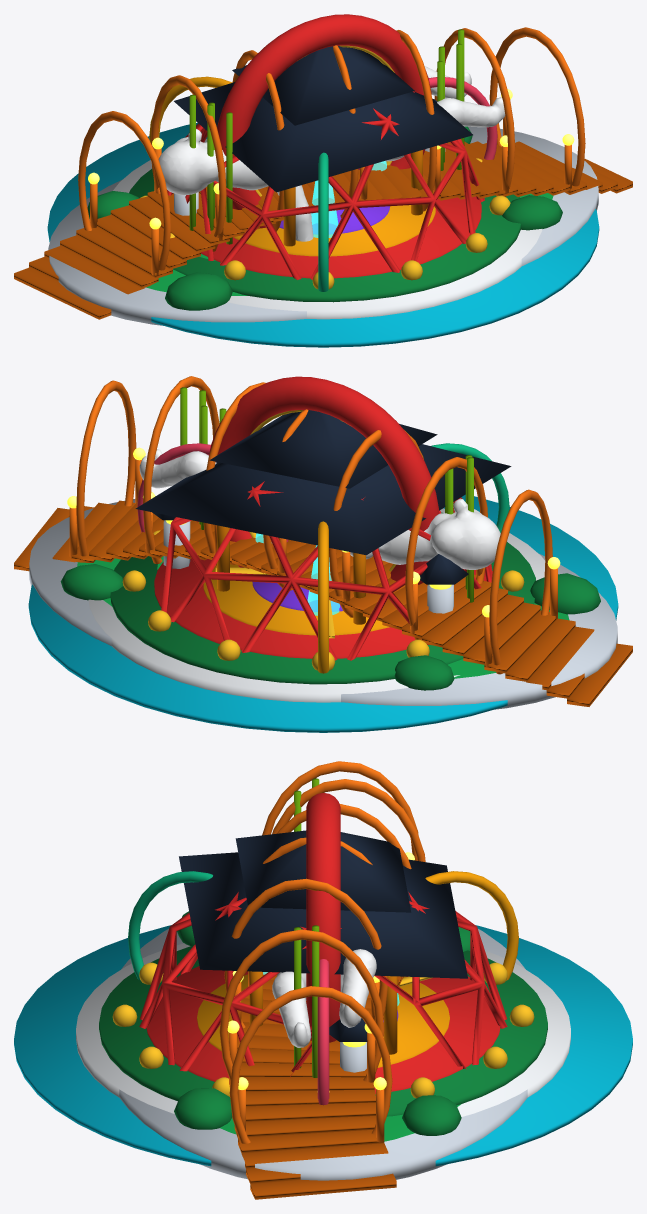
The model's file is sculptures_bridges.glb.
The picture shows the model from 3 angles, top to bottom: view 1: azimuth 30°, elevation 25°; view 2: azimuth 150°, elevation 25°; view 3: azimuth 270°, elevation 25°; orthographic projection. The views are drawn at different scales.
Parts seen in each view (by area): view 1: Cylinder.032, Cone.005, Planet_Granite_Curb, Cylinder.026, Torus.007, Icosphere.004, Cone.006, Cylinder.027, Cylinder.025, Planet_Baby_Mesh, Cylinder.028, Torus (+38 smaller); view 2: Cylinder.032, Cone.005, Planet_Granite_Curb, Cylinder.026, Torus.007, Cone.006, Icosphere.004, Cylinder.025, Cylinder.027, Planet_Baby_Mesh, Cylinder.028, Torus.006 (+38 smaller); view 3: Cylinder.032, Cone.005, Cylinder.026, Planet_Granite_Curb, Icosphere.004, Cylinder.027, Cone.006, Cylinder.025, Torus.007, Cylinder.028, Torus.006, Planet_Baby_Mesh (+26 smaller).
Boxes of the visible parts, left/top/right/bottom form: Cylinder.032: left=47, top=122, right=599, bottom=347; Cone.005: left=174, top=82, right=472, bottom=192; Planet_Granite_Curb: left=48, top=126, right=598, bottom=325; Cylinder.026: left=129, top=168, right=520, bottom=302; Torus.007: left=217, top=14, right=431, bottom=228; Icosphere.004: left=167, top=91, right=484, bottom=279; Cone.006: left=232, top=46, right=414, bottom=125; Cylinder.027: left=201, top=196, right=481, bottom=278; Cylinder.025: left=113, top=139, right=542, bottom=319; Planet_Baby_Mesh: left=158, top=66, right=505, bottom=241; Cylinder.028: left=233, top=205, right=435, bottom=256; Torus: left=78, top=111, right=170, bottom=270; Cylinder.032: left=28, top=494, right=618, bottom=732; Cone.005: left=135, top=444, right=511, bottom=555; Planet_Granite_Curb: left=29, top=496, right=617, bottom=709; Cylinder.026: left=110, top=512, right=535, bottom=684; Torus.007: left=209, top=376, right=439, bottom=584; Cone.006: left=209, top=410, right=437, bottom=488; Icosphere.004: left=161, top=481, right=492, bottom=660; Cylinder.025: left=88, top=508, right=545, bottom=702; Cylinder.027: left=154, top=558, right=486, bottom=658; Planet_Baby_Mesh: left=139, top=449, right=500, bottom=569; Cylinder.028: left=203, top=564, right=389, bottom=635; Torus.006: left=76, top=380, right=136, bottom=556; Cylinder.032: left=14, top=925, right=632, bottom=1166; Cone.005: left=179, top=852, right=467, bottom=978; Cylinder.026: left=99, top=945, right=547, bottom=1116; Planet_Granite_Curb: left=119, top=929, right=527, bottom=1180; Icosphere.004: left=139, top=892, right=507, bottom=1076; Cylinder.027: left=146, top=966, right=500, bottom=1093; Cone.006: left=235, top=830, right=411, bottom=912; Cylinder.025: left=76, top=943, right=570, bottom=1116; Torus.007: left=306, top=793, right=340, bottom=1042; Cylinder.028: left=197, top=974, right=449, bottom=1067; Torus.006: left=229, top=986, right=392, bottom=1143; Planet_Baby_Mesh: left=272, top=949, right=376, bottom=1047.
Size of the model in its own units: 14.03 by 5.73 by 12.
